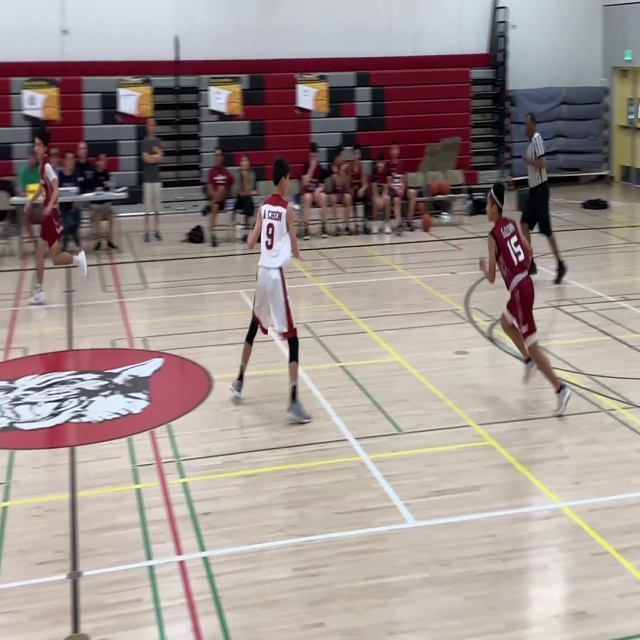Basketball: (428, 180, 450, 196), (421, 213, 431, 232)
